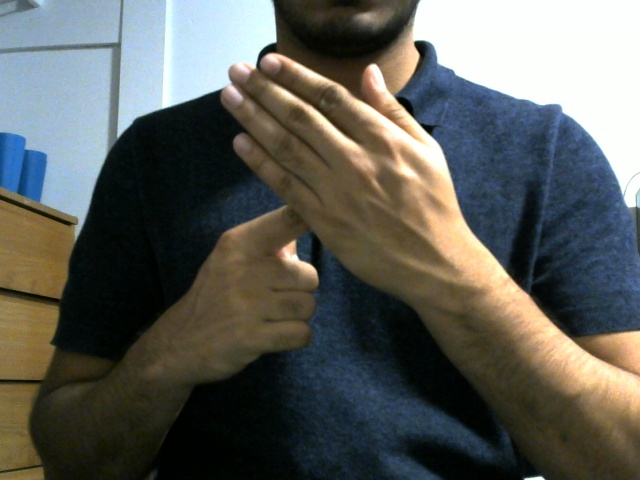Project: (161, 50, 491, 361)
